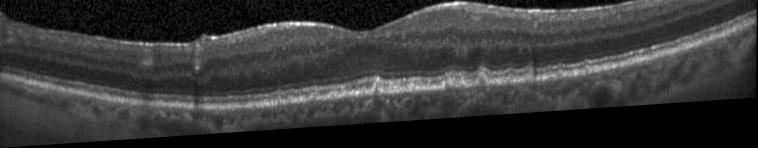retinal_drusen: (445, 89, 461, 97), (374, 88, 381, 102), (479, 83, 487, 93), (507, 84, 515, 91), (310, 101, 318, 107), (253, 106, 258, 113), (289, 102, 293, 110), (500, 87, 506, 92), (494, 87, 499, 92), (460, 90, 465, 94), (525, 86, 529, 91), (278, 103, 281, 109), (520, 87, 524, 91)
